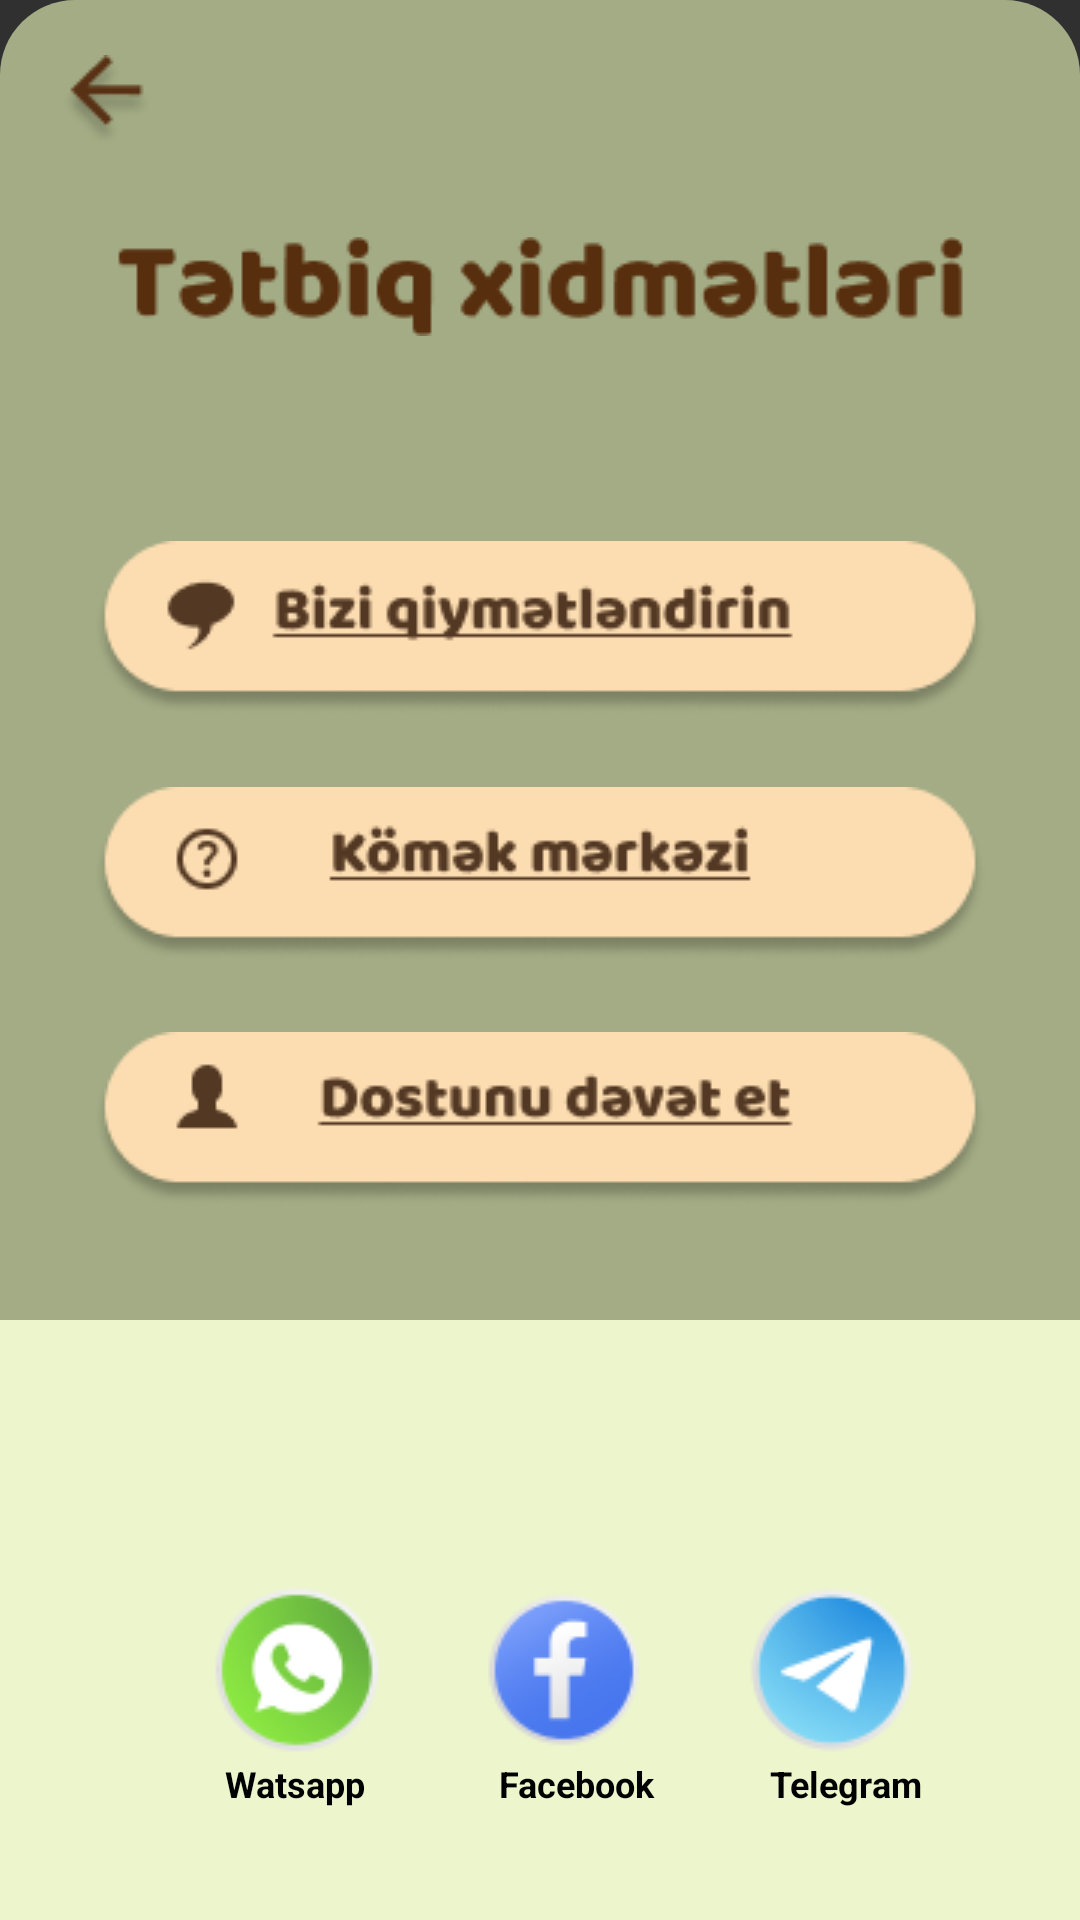

Icon click points for this 1080 x 1920 phone screenshot, format [x,y]:
arrow: [106,91]
